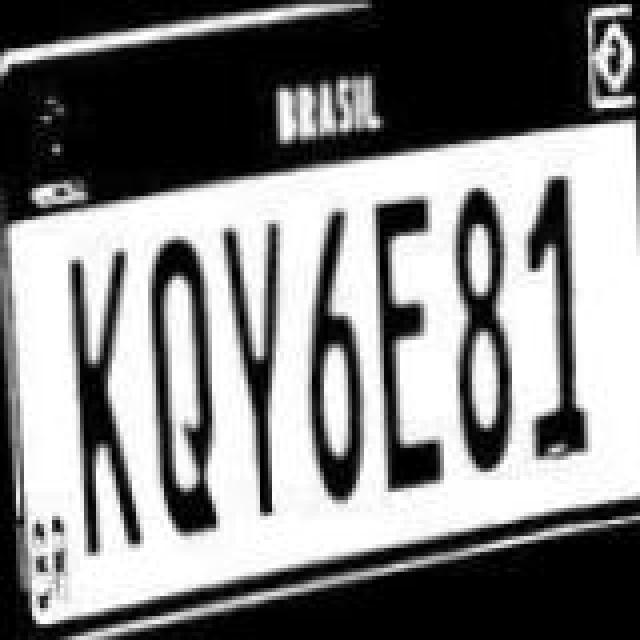1: (516, 170, 592, 462)
6: (294, 200, 370, 508)
8: (444, 178, 520, 470)
E: (366, 192, 446, 496)
K: (58, 240, 142, 560)
Q: (140, 226, 220, 538)
Y: (216, 212, 296, 524)
